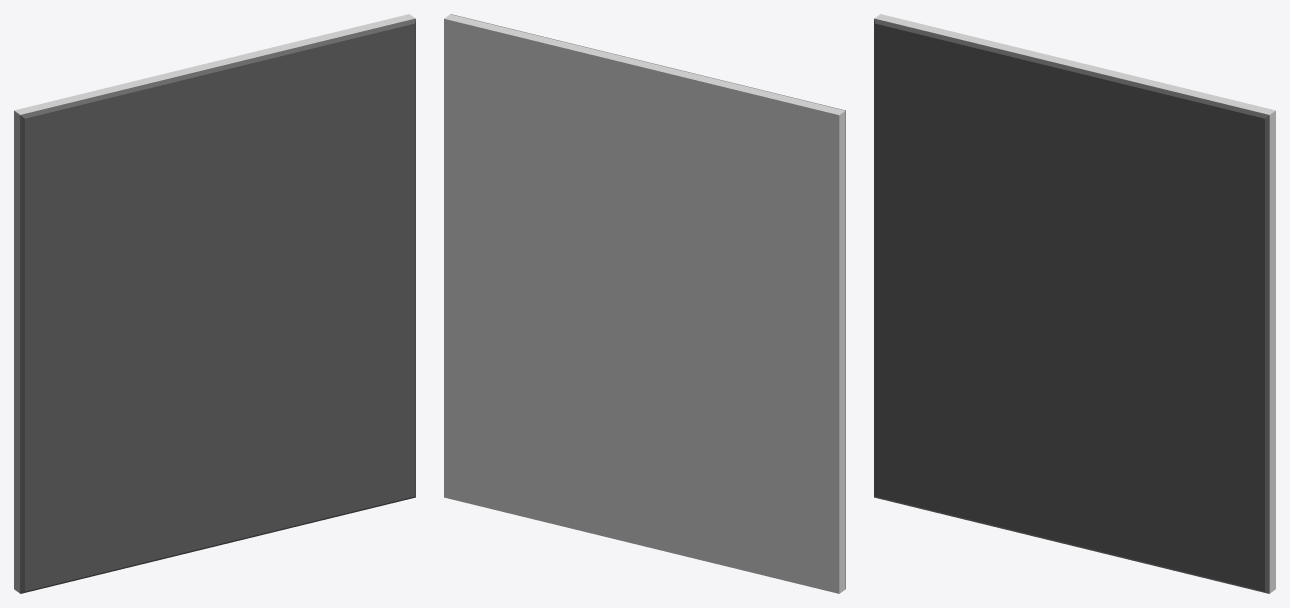
The model's file is AEC_45784.glb.
3 renders of one model, left to right at view 1: azimuth 30°, elevation 25°; view 2: azimuth 150°, elevation 25°; view 3: azimuth 330°, elevation 25°, orthographic.
Parts seen in each view (by area): view 1: 0; view 2: 0; view 3: 0.
Part boxes in pixels (<box>): 0: <box>14,14,415,593</box>; 0: <box>444,14,845,593</box>; 0: <box>874,14,1275,593</box>.
Size of the model in its own units: 0.7 by 0.81 by 0.025.
Materials: 1 (1 with a texture image).
